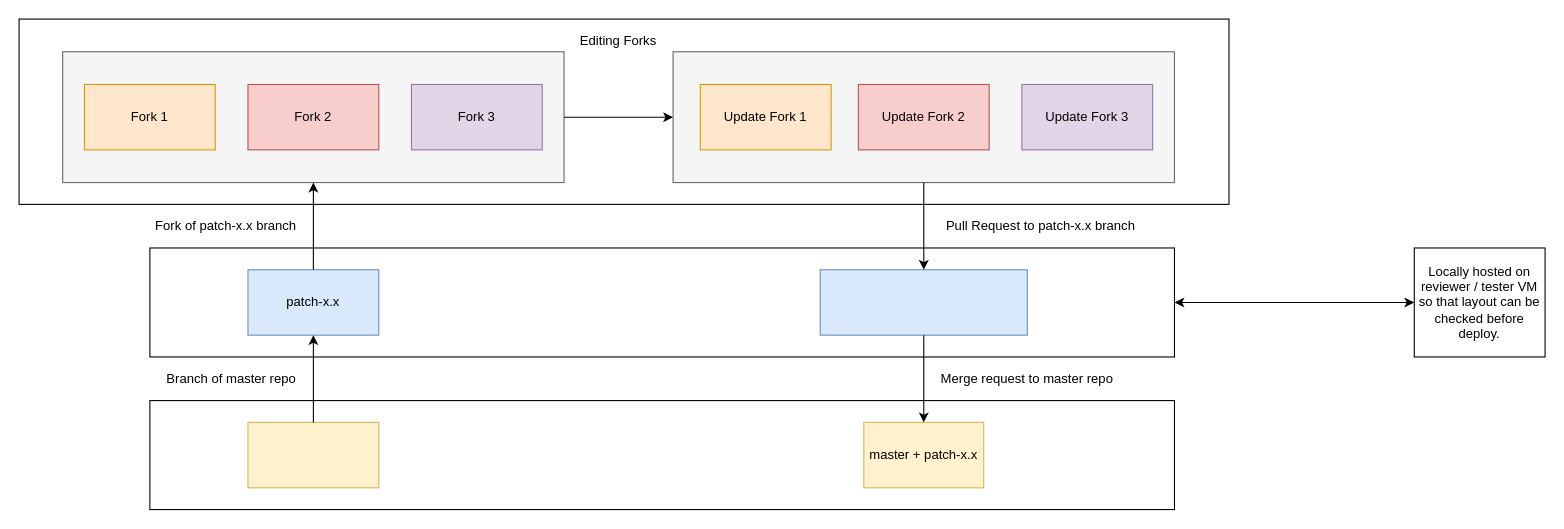
This 1564x529 diagram has some shape labels left out. Here are the shapes that lost their labels. From the top down, the box of each, then its label:
(149, 247, 1174, 357): Test / Review Branch
(819, 269, 1027, 335): patch-x.x + fork1 + fork2 + fork 3
(247, 421, 379, 488): master
(149, 399, 1174, 510): Production Branch
